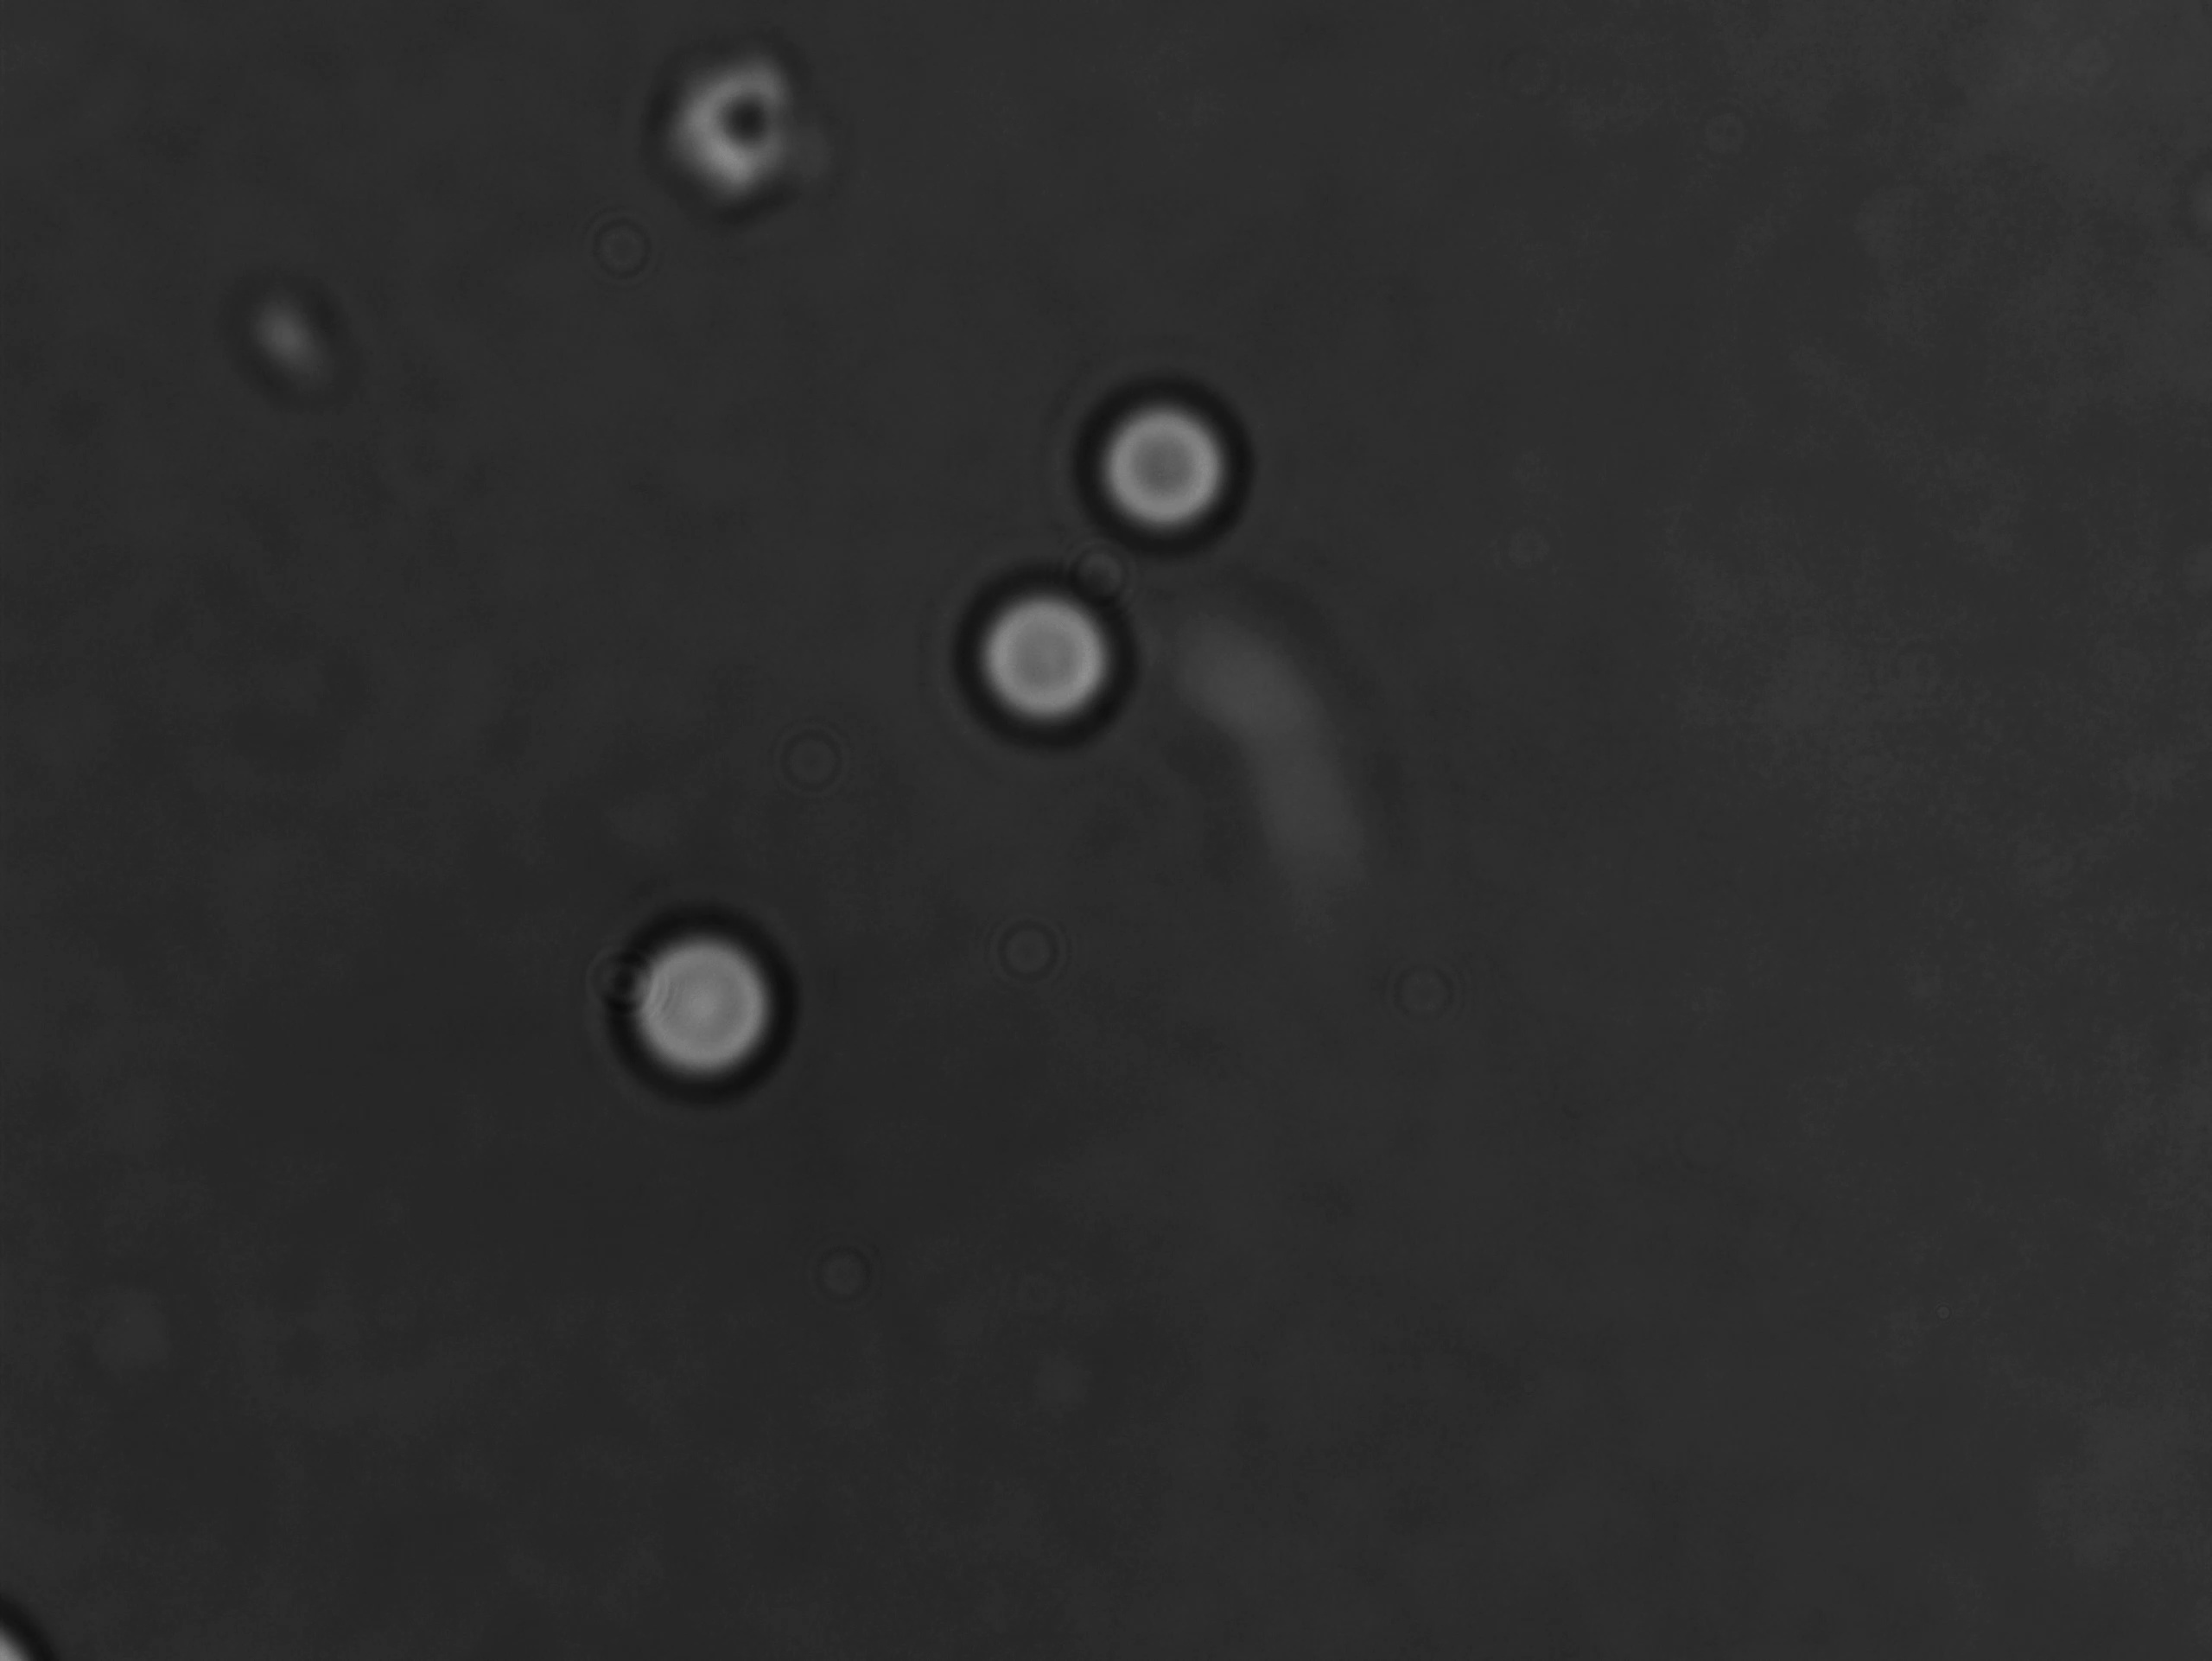depth:80: (574, 899, 836, 1127), (1066, 345, 1284, 565), (949, 553, 1157, 754)
